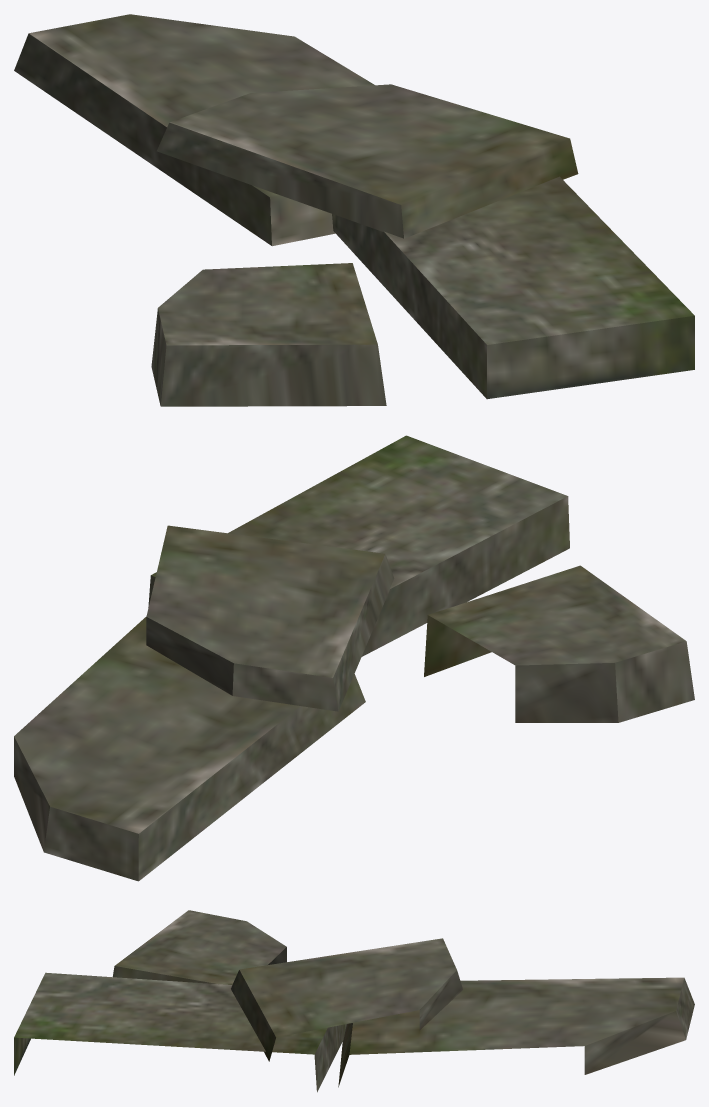
File: zc__jiangxia_zhuanshi01.FBX
3 renders of one model, top to bottom at view 1: azimuth 30°, elevation 25°; view 2: azimuth 150°, elevation 25°; view 3: azimuth 270°, elevation 25°, orthographic. The views are drawn at different scales.
Parts seen in each view (by area): view 1: Object002; view 2: Object002; view 3: Object002.
Boxes of the visible parts, x1=… form: Object002: x1=14, y1=14, x2=694, y2=406; Object002: x1=14, y1=435, x2=694, y2=881; Object002: x1=14, y1=910, x2=694, y2=1092.
Size of the model in its own units: 207 by 47.74 by 359.
1 material, 1 textured.
